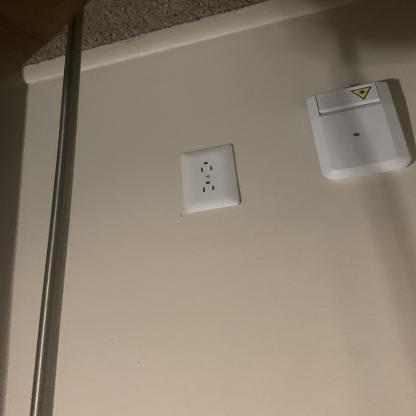OUTLET: (180, 141, 236, 215)
